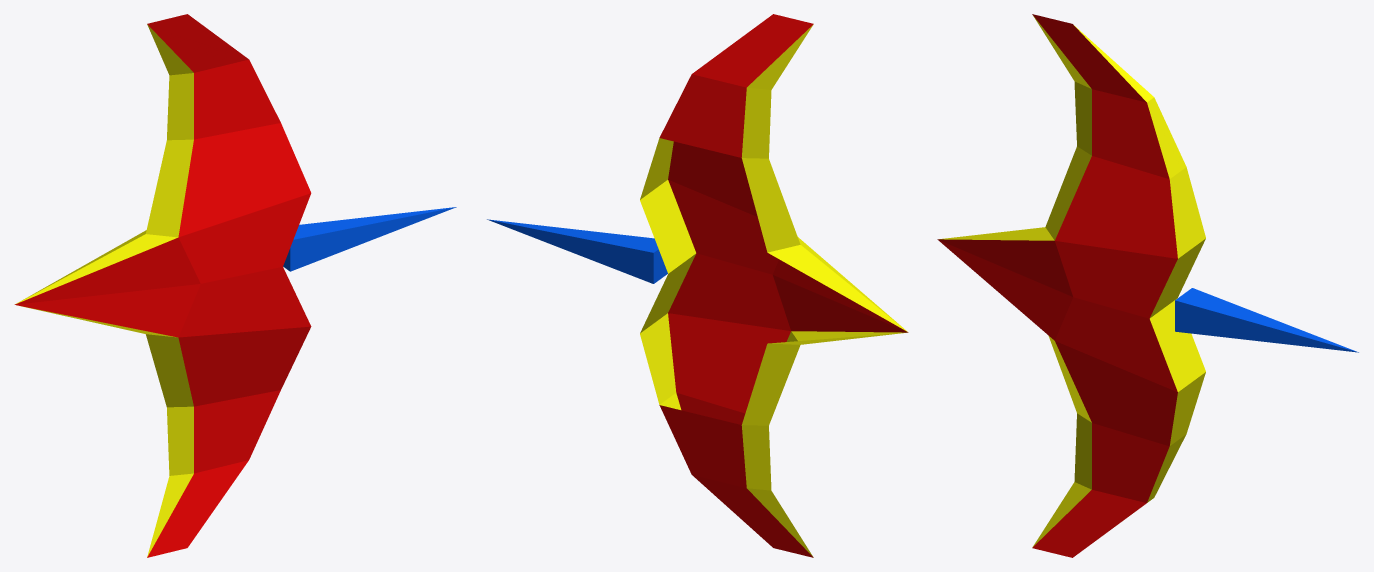
The model's file is player.obj.
3 renders of one model, left to right at view 1: azimuth 30°, elevation 25°; view 2: azimuth 150°, elevation 25°; view 3: azimuth 330°, elevation 25°, orthographic.
Visible parts, largest first — view 1: Cube, Cube.001; view 2: Cube, Cube.001; view 3: Cube, Cube.001.
Boxes of the visible parts, x1,y1,x2,y2 form: Cube: (14,14,311,557); Cube.001: (283,207,456,271); Cube: (640,14,908,557); Cube.001: (487,219,667,283); Cube: (937,14,1205,557); Cube.001: (1175,288,1358,352).
Size of the model in its own units: 27.15 by 32 by 3.06.
